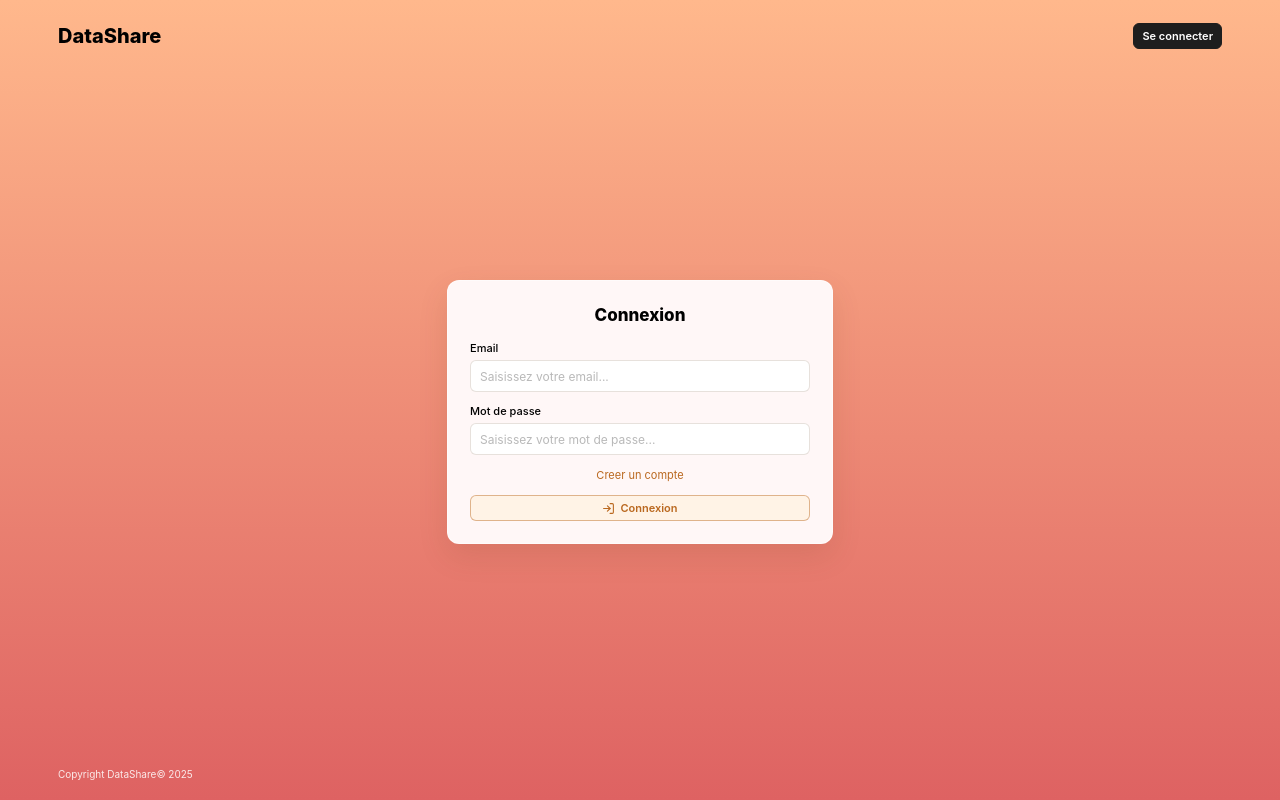
Scenario: LoginPage › shows a clear client-side error when email is missing and does not submit
Type "Password123" into the password field labelled "Mot de passe". click: (640, 439)
box: [470,423,810,455]
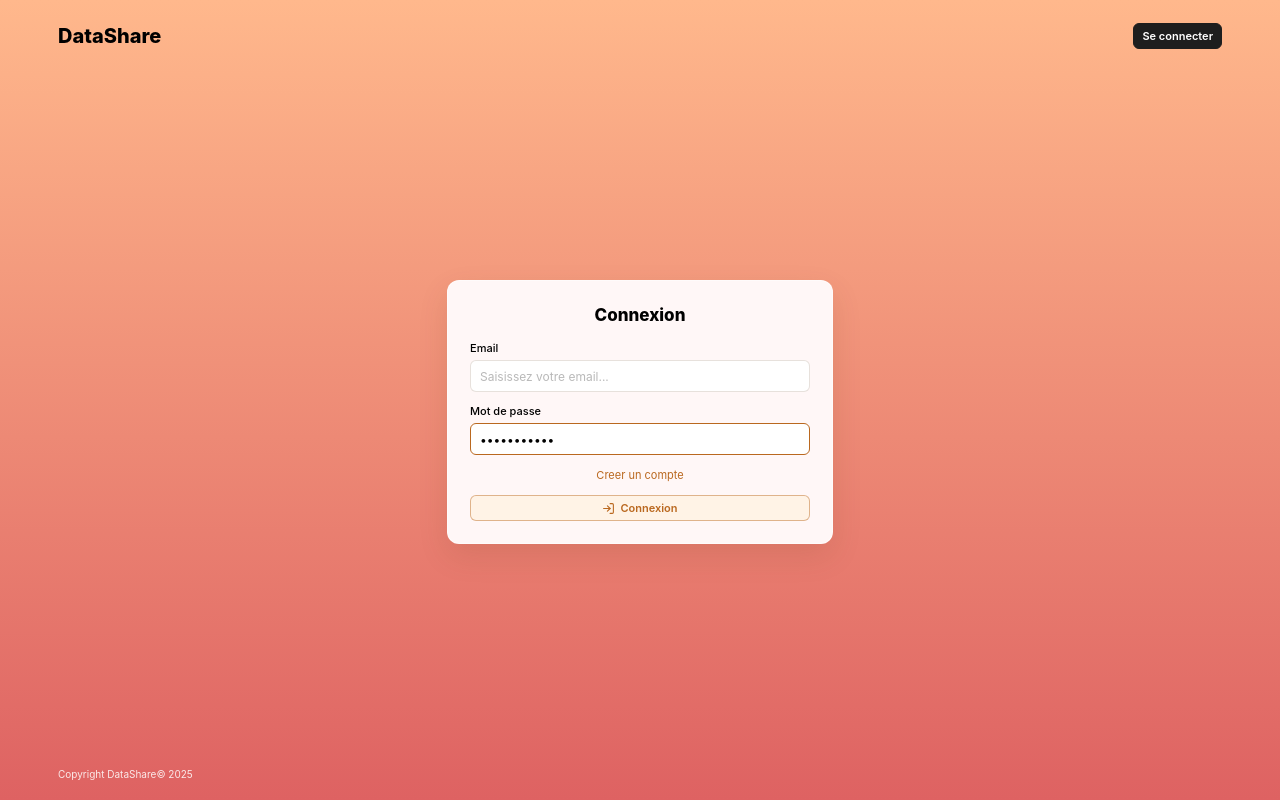
Click the button "Connexion". click: click(640, 508)
box: [470,495,810,521]
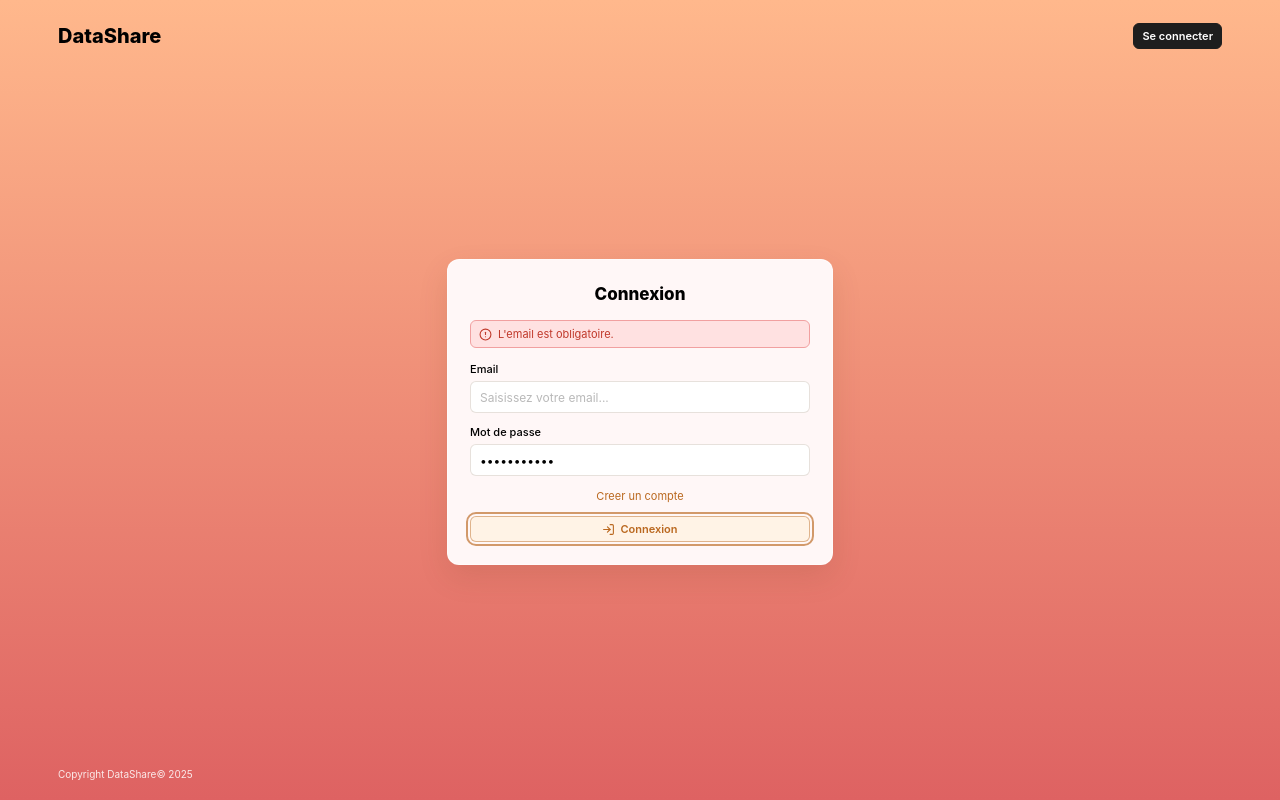
Now the text "L'email est obligatoire." is shown, box [498,327,614,341]
